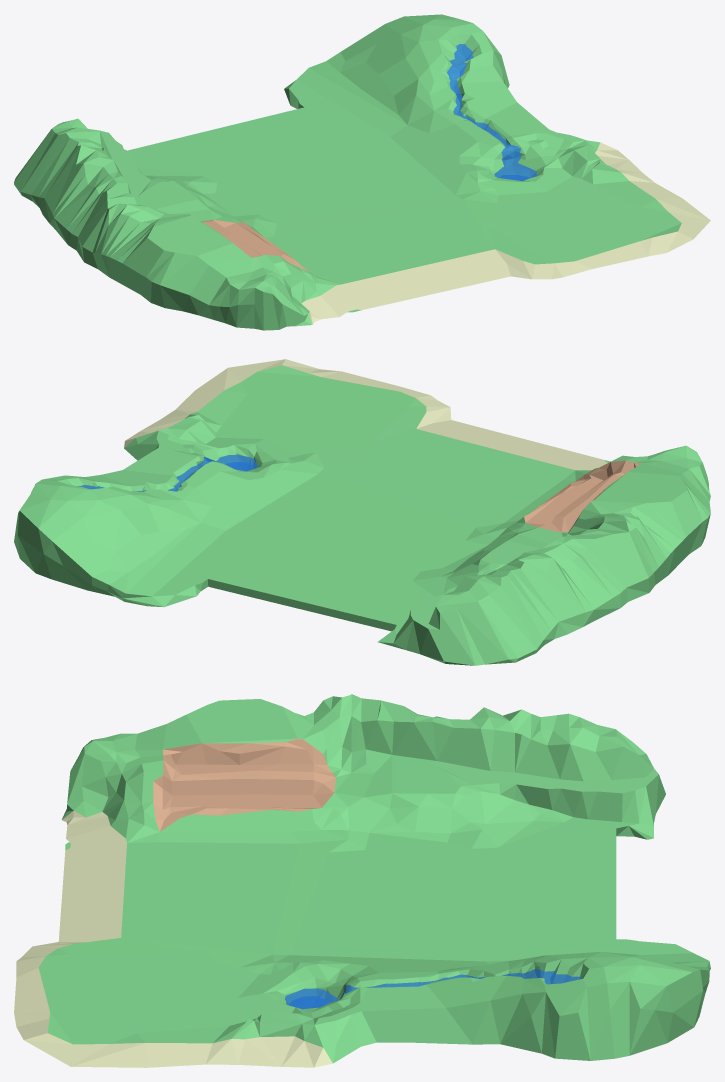
The model's file is Island.glb.
The picture shows the model from 3 angles, top to bottom: view 1: azimuth 30°, elevation 25°; view 2: azimuth 150°, elevation 25°; view 3: azimuth 270°, elevation 25°; orthographic projection. The views are drawn at different scales.
Parts seen in each view (by area): view 1: Island.002; view 2: Island.002; view 3: Island.002.
Boxes of the visible parts, <box> form: Island.002: <box>14,14,710,330</box>; Island.002: <box>14,359,710,665</box>; Island.002: <box>14,694,710,1067</box>.
Size of what is drawn, in the model's own units: 195 by 29.92 by 179.
